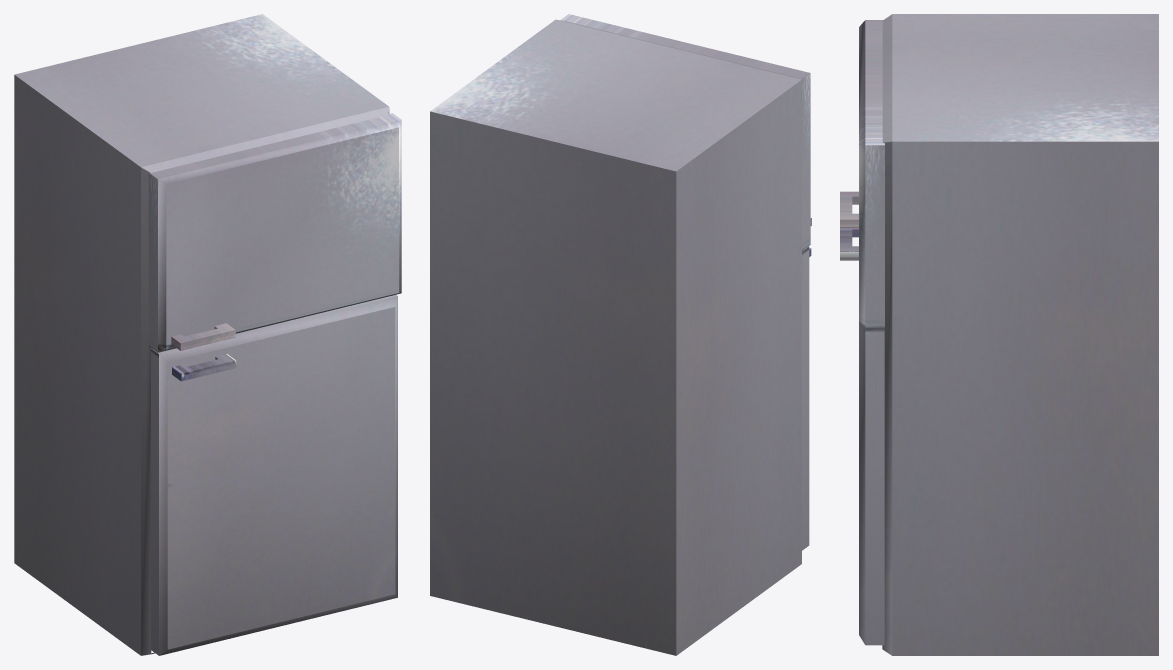
Rendered from fridge.obj.
3 renders of one model, left to right at view 1: azimuth 30°, elevation 25°; view 2: azimuth 150°, elevation 25°; view 3: azimuth 270°, elevation 25°, orthographic. The views are drawn at different scales.
Parts seen in each view (by area): view 1: br_freezer2; view 2: br_freezer2; view 3: br_freezer2.
Boxes of the visible parts, x1,y1,x2,y2 form: br_freezer2: (14, 14, 401, 655); br_freezer2: (430, 14, 811, 655); br_freezer2: (840, 14, 1158, 655).
Bounding box in the file's own units: 26.59 × 49.98 × 28.09.
Materials: 1 (1 with a texture image).
